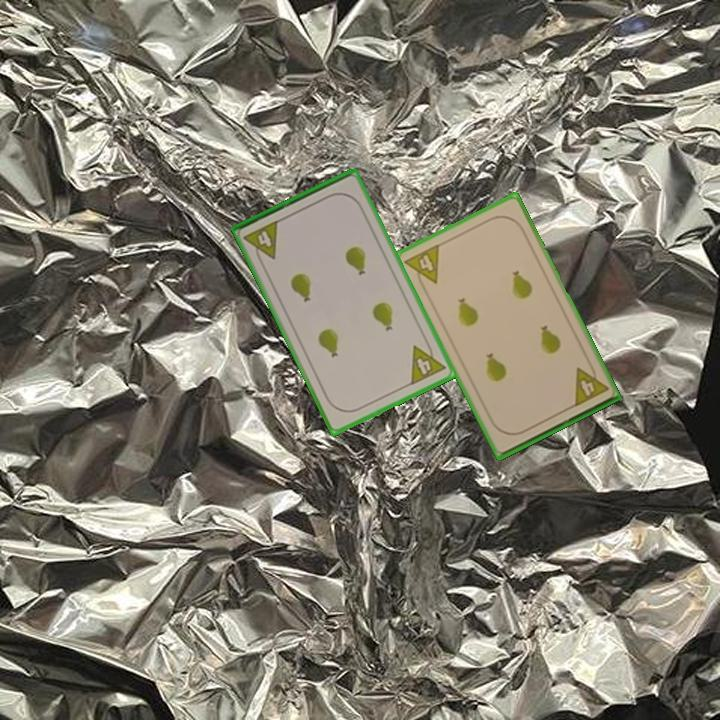4p: (407, 336, 449, 388), (401, 240, 442, 292), (240, 217, 282, 267), (570, 359, 611, 410)
